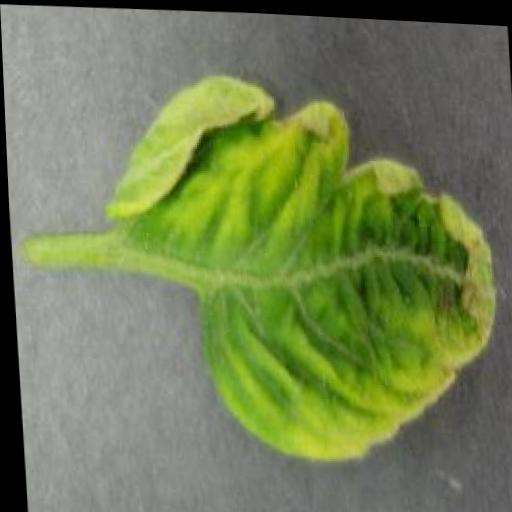Yellow Leaf Curl Virus: (98, 66, 505, 471)
